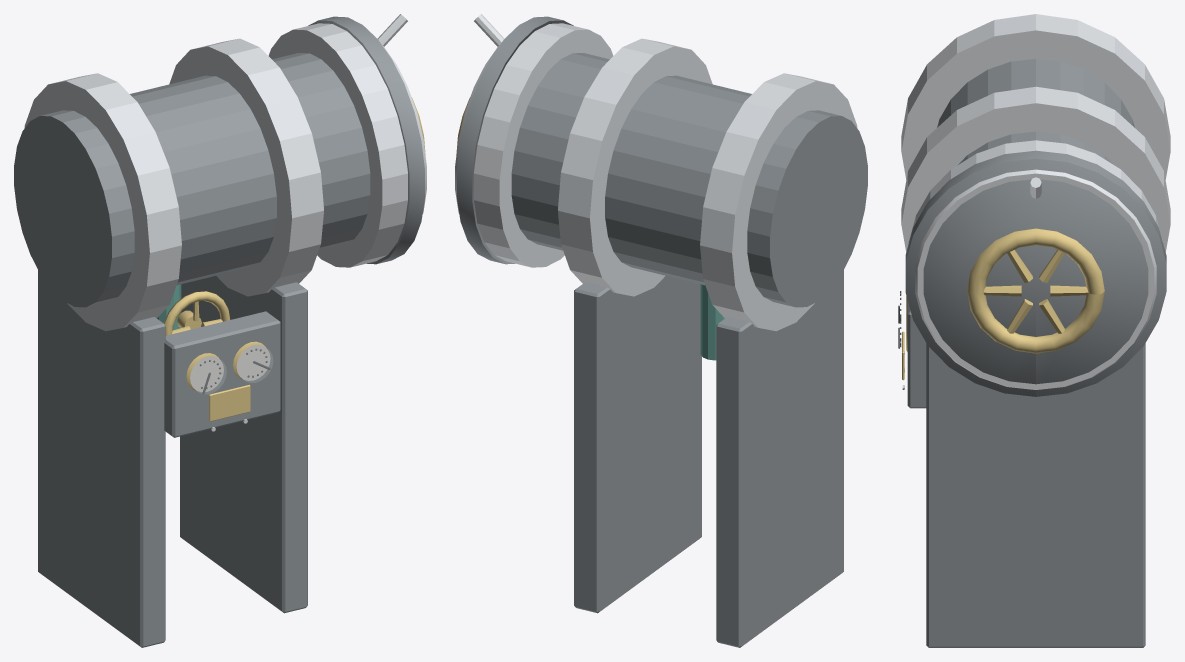
The model's file is submarine-interior-and-control-room-torpedo-tube-breec-779114c7__36494.glb.
3 views of the same model, side by side, from view 1: azimuth 30°, elevation 25°; view 2: azimuth 150°, elevation 25°; view 3: azimuth 270°, elevation 25° (orthographic). The views are drawn at different scales.
Visible parts, largest first — view 1: torpedo-tube-breech, breech/hull, wheel-vent, breech/metal; view 2: torpedo-tube-breech, breech/hull, breech/metal; view 3: torpedo-tube-breech, breech/hull, breech/brass, breech/metal.
Boxes of the visible parts, box(x1,y1,x2,y2) form: torpedo-tube-breech: box(14, 23, 407, 647); breech/hull: box(308, 16, 424, 264); wheel-vent: box(163, 291, 230, 335); breech/metal: box(377, 14, 426, 213); torpedo-tube-breech: box(474, 23, 867, 647); breech/hull: box(457, 16, 573, 264); breech/metal: box(455, 14, 504, 213); torpedo-tube-breech: box(898, 14, 1170, 647); breech/hull: box(905, 150, 1166, 396); breech/brass: box(967, 228, 1104, 353); breech/metal: box(915, 169, 1156, 389).
Size of the model in its own units: 1.33 by 1.93 by 0.876.
